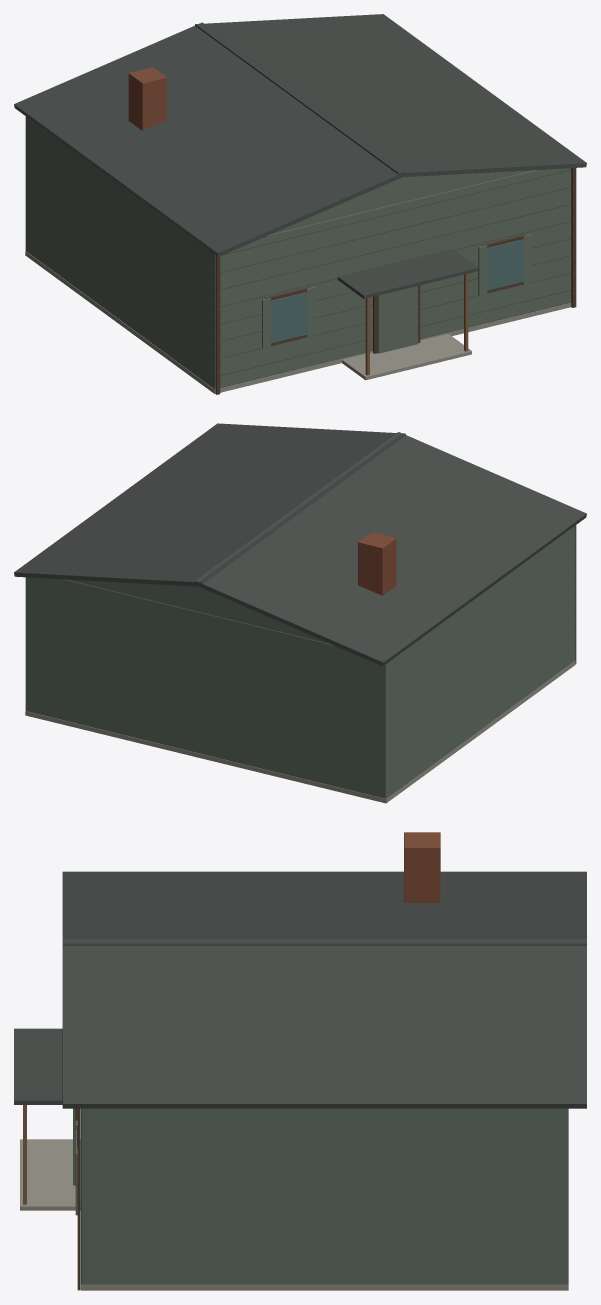
Rendered from env_house_ranch_b.gltf.
The picture shows the model from 3 angles, top to bottom: view 1: azimuth 30°, elevation 25°; view 2: azimuth 150°, elevation 25°; view 3: azimuth 270°, elevation 25°; orthographic projection. The views are drawn at different scales.
Parts seen in each view (by area): view 1: env_house_ranch_b__roof, env_house_ranch_b__paint_green, env_house_ranch_b__concrete, env_house_ranch_b__wood_edge, env_house_ranch_b__glass, env_house_ranch_b__rust, env_house_ranch_b__wood; view 2: env_house_ranch_b__paint_green, env_house_ranch_b__roof, env_house_ranch_b__concrete, env_house_ranch_b__rust; view 3: env_house_ranch_b__roof, env_house_ranch_b__paint_green, env_house_ranch_b__concrete, env_house_ranch_b__rust, env_house_ranch_b__wood_edge.
Part boxes in pixels (x1,y1,x2,y2): env_house_ranch_b__roof: [14, 14, 586, 298]; env_house_ranch_b__paint_green: [25, 116, 571, 389]; env_house_ranch_b__concrete: [25, 251, 571, 393]; env_house_ranch_b__wood_edge: [215, 168, 576, 394]; env_house_ranch_b__glass: [271, 239, 523, 343]; env_house_ranch_b__rust: [128, 67, 166, 130]; env_house_ranch_b__wood: [365, 273, 468, 375]; env_house_ranch_b__paint_green: [25, 526, 575, 798]; env_house_ranch_b__roof: [14, 423, 586, 666]; env_house_ranch_b__concrete: [25, 660, 575, 803]; env_house_ranch_b__rust: [358, 532, 396, 595]; env_house_ranch_b__roof: [14, 871, 586, 1108]; env_house_ranch_b__paint_green: [73, 1108, 568, 1284]; env_house_ranch_b__concrete: [20, 1139, 568, 1290]; env_house_ranch_b__rust: [404, 832, 440, 902]; env_house_ranch_b__wood_edge: [75, 1108, 80, 1290].
Bounding box in the file's own units: 45.07 × 24 × 47.
